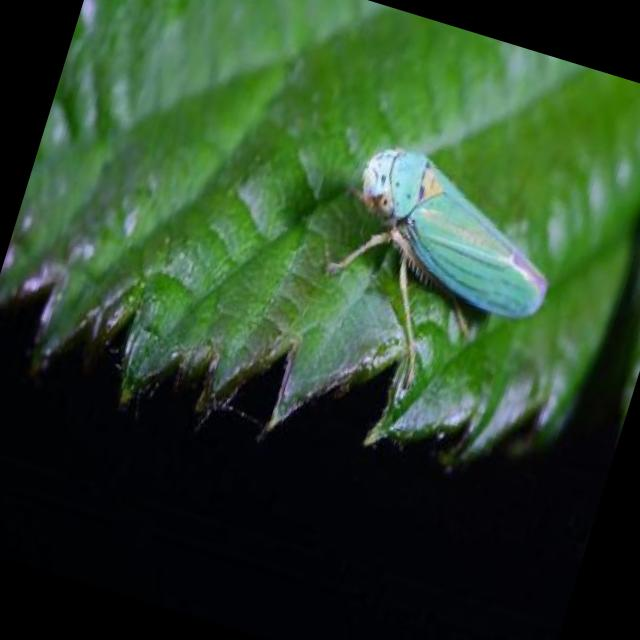green-leafhopper: (306, 129, 580, 398)
